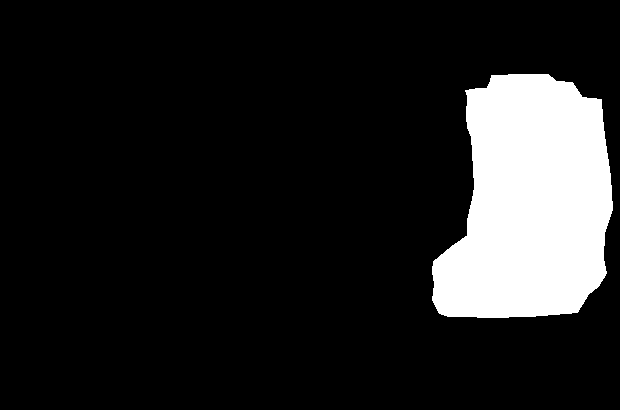type4: (426, 69, 615, 317)
